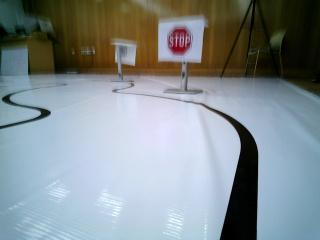stop: (164, 24, 197, 57)
